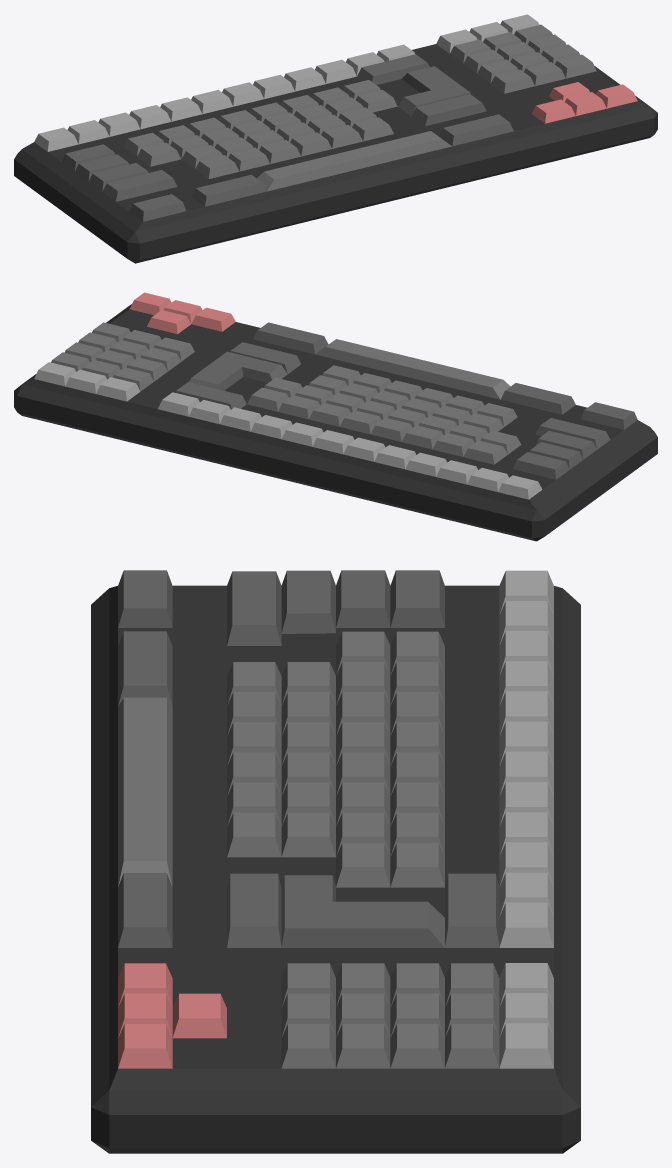
The model's file is keyboard.fbx.
3 views of the same model, one above another, from view 1: azimuth 30°, elevation 25°; view 2: azimuth 150°, elevation 25°; view 3: azimuth 270°, elevation 25° (orthographic). The views are drawn at different scales.
Visible parts, largest first — view 1: Keyboard; view 2: Keyboard; view 3: Keyboard.
Part boxes in pixels (x1,y1,x2,y2): Keyboard: [14, 14, 657, 263]; Keyboard: [14, 292, 657, 541]; Keyboard: [91, 570, 580, 1153].
Bounding box in the file's own units: 10 × 0.8385 × 4.
